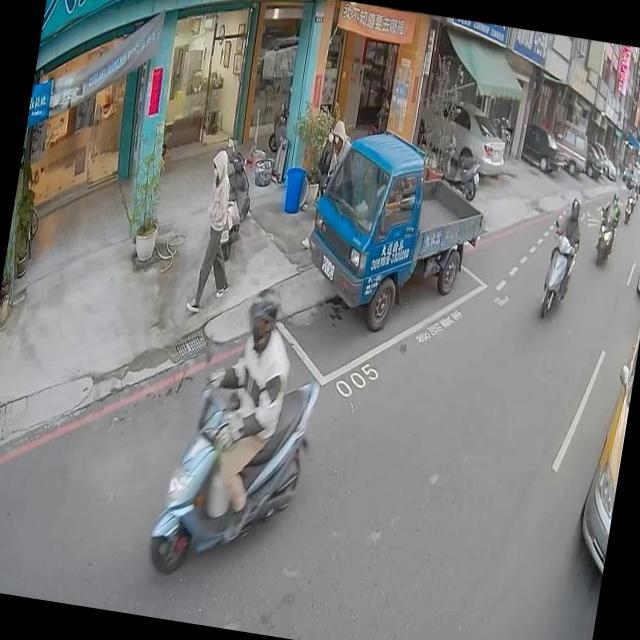person: (174, 286, 300, 552), (186, 138, 254, 314), (298, 120, 346, 239), (542, 193, 586, 310), (318, 116, 358, 196), (598, 191, 623, 231), (626, 180, 640, 204)
